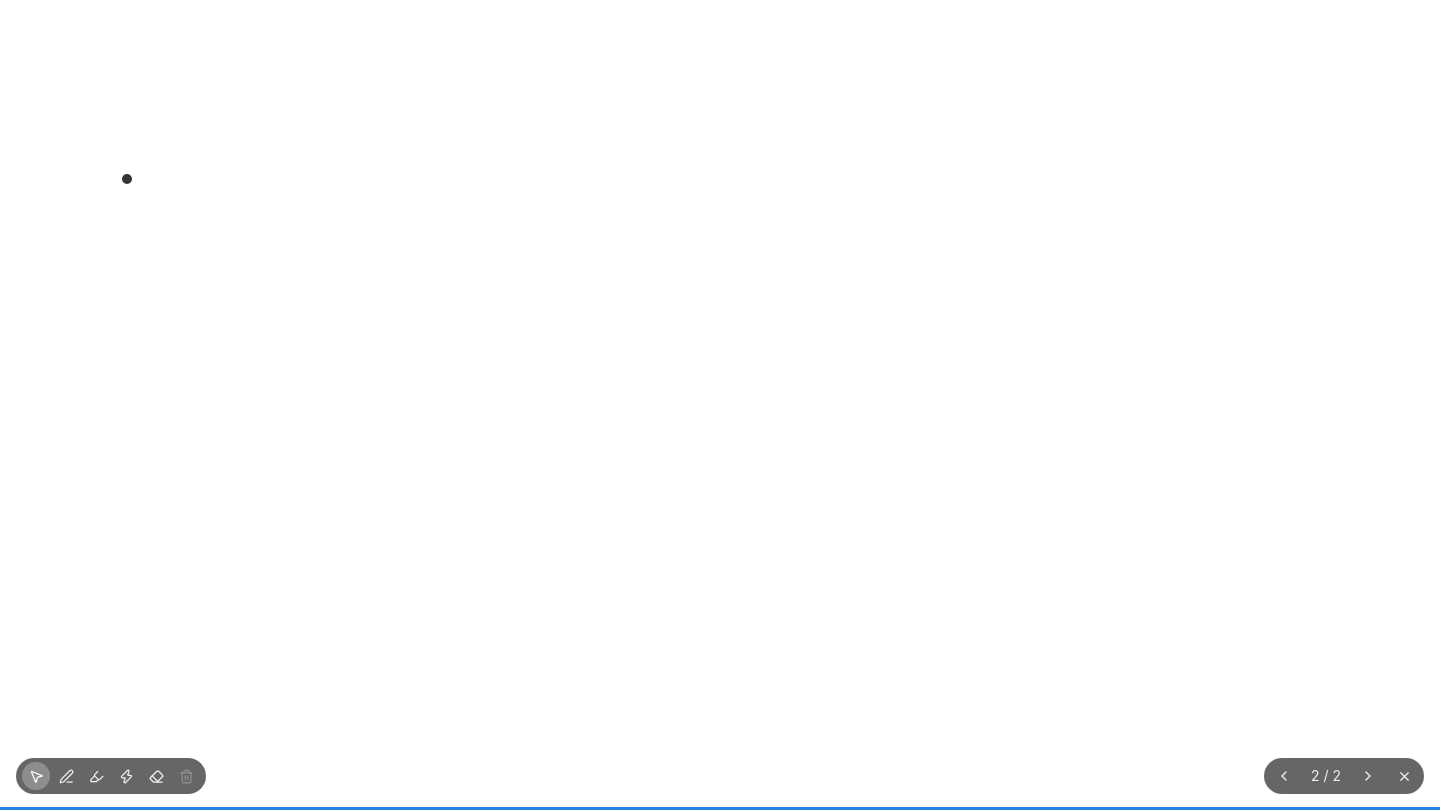
PresentationPage › presents from the start or the current slide, navigates with keys and closes with Esc
Earlier steps of the test are not shown.
Later steps or results of the test are not shown.
Expected: the text with test id "present-counter" reads "2 / 2", [1311,767,1341,784]
Press ArrowRight
Expected: the text with test id "present-counter" reads "2 / 2", [1311,767,1341,784]
Press b
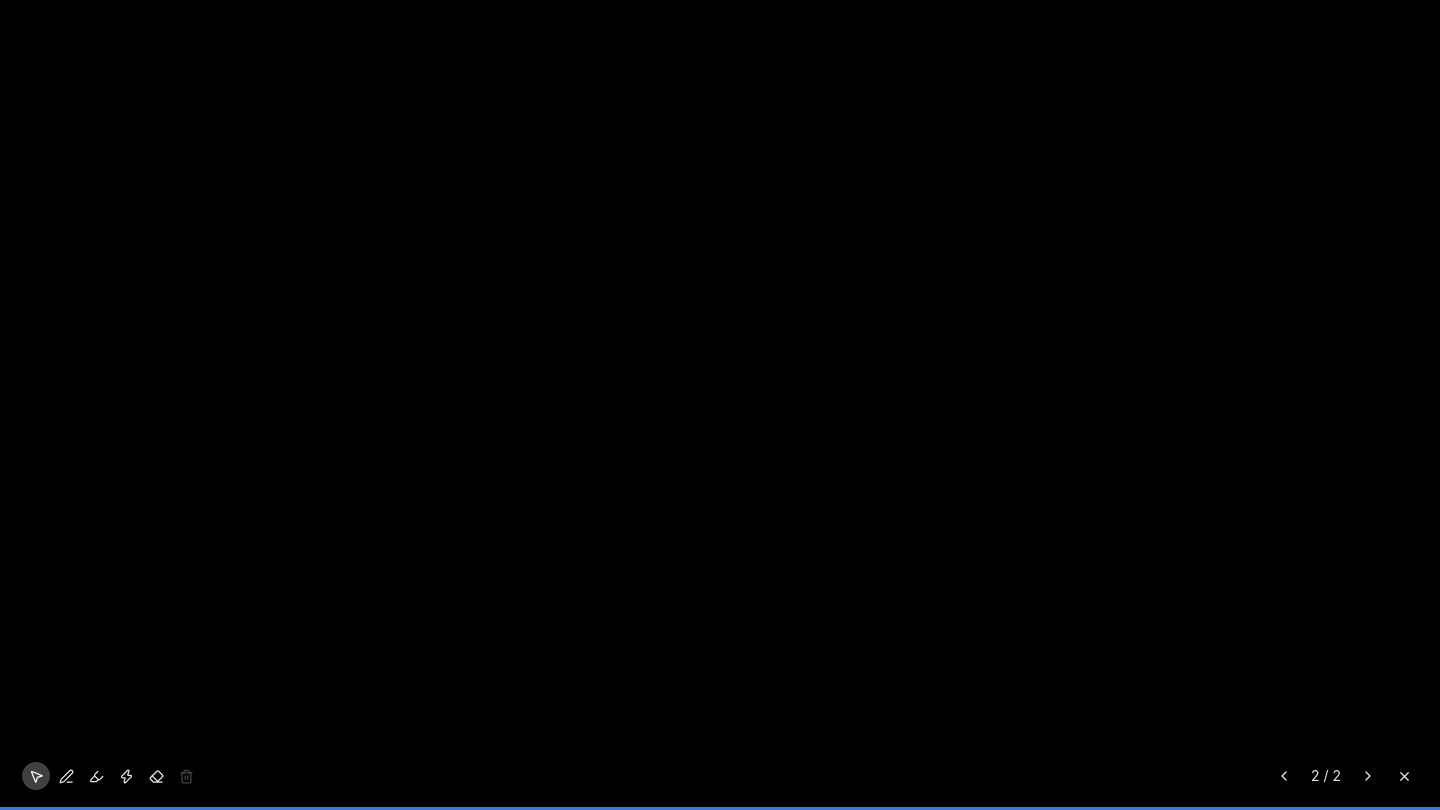
Expected: the element with test id "present-black" is shown
Click the dialog with test id "present-mode" at (720, 405), box [0,0,1439,809]
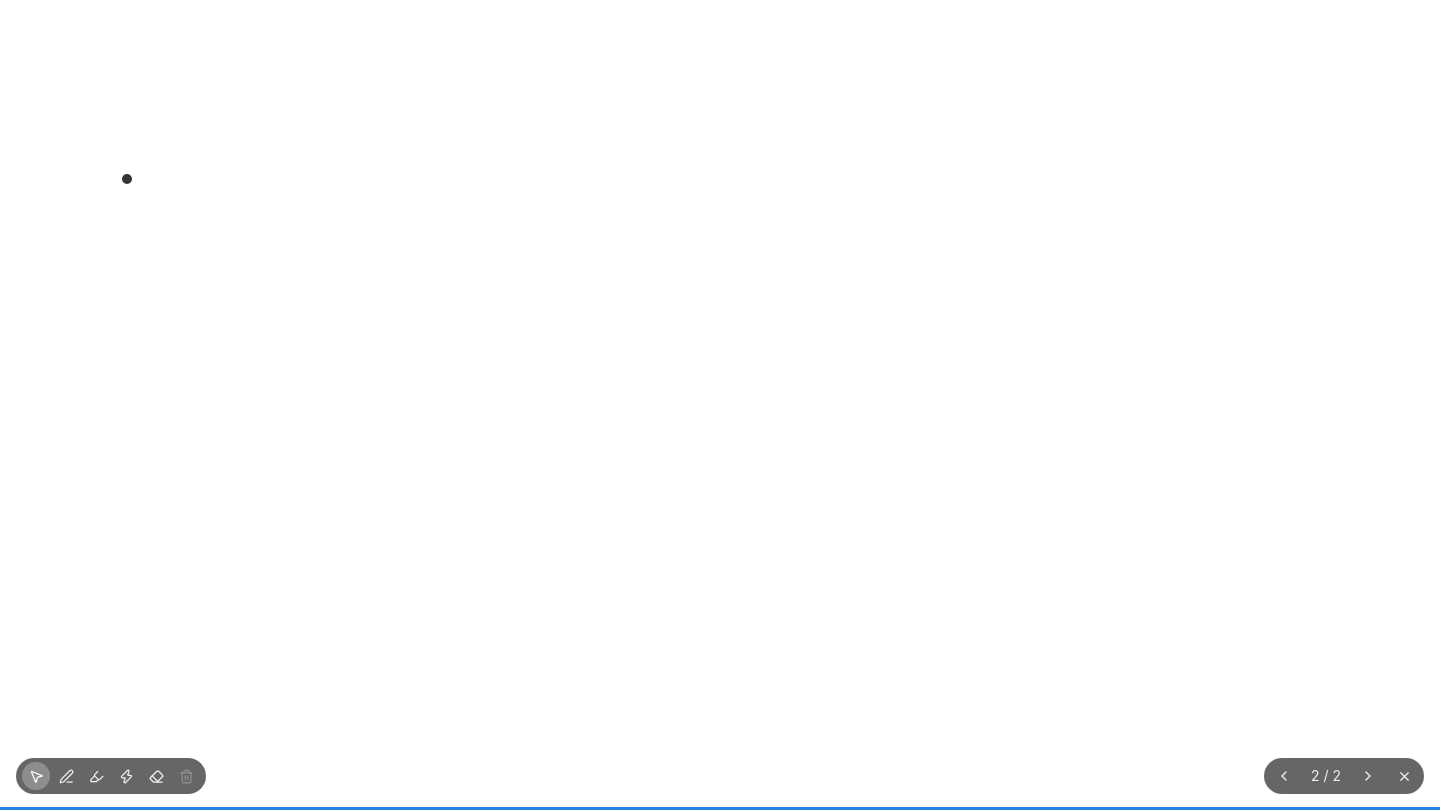
Expected: the element with test id "present-black" is gone
Press Escape
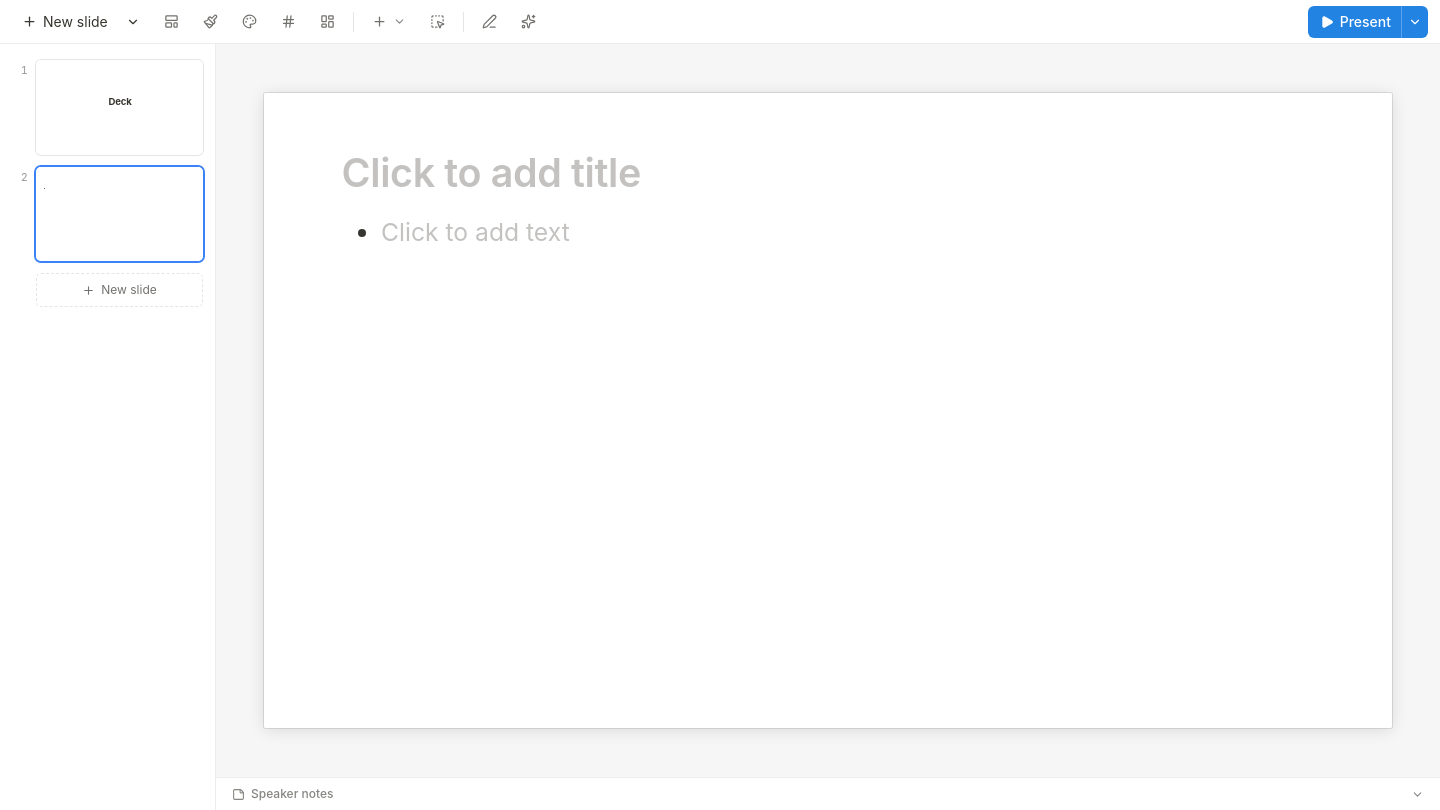
Expected: the dialog with test id "present-mode" is gone
Press F5
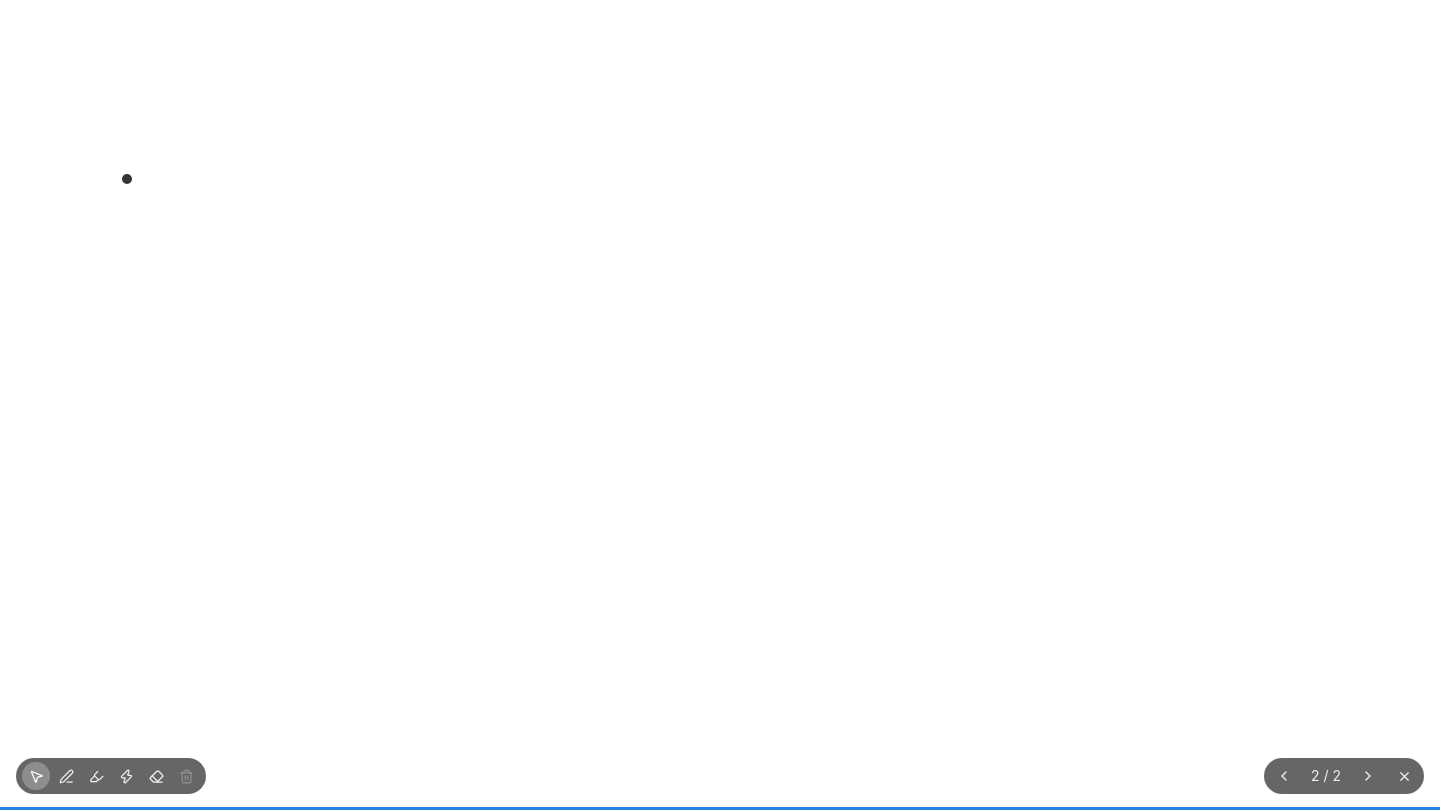
Expected: the text with test id "present-counter" reads "2 / 2", [1311,767,1341,784]
Click the button named "End presentation" at (1404, 776), box [1390,762,1418,790]
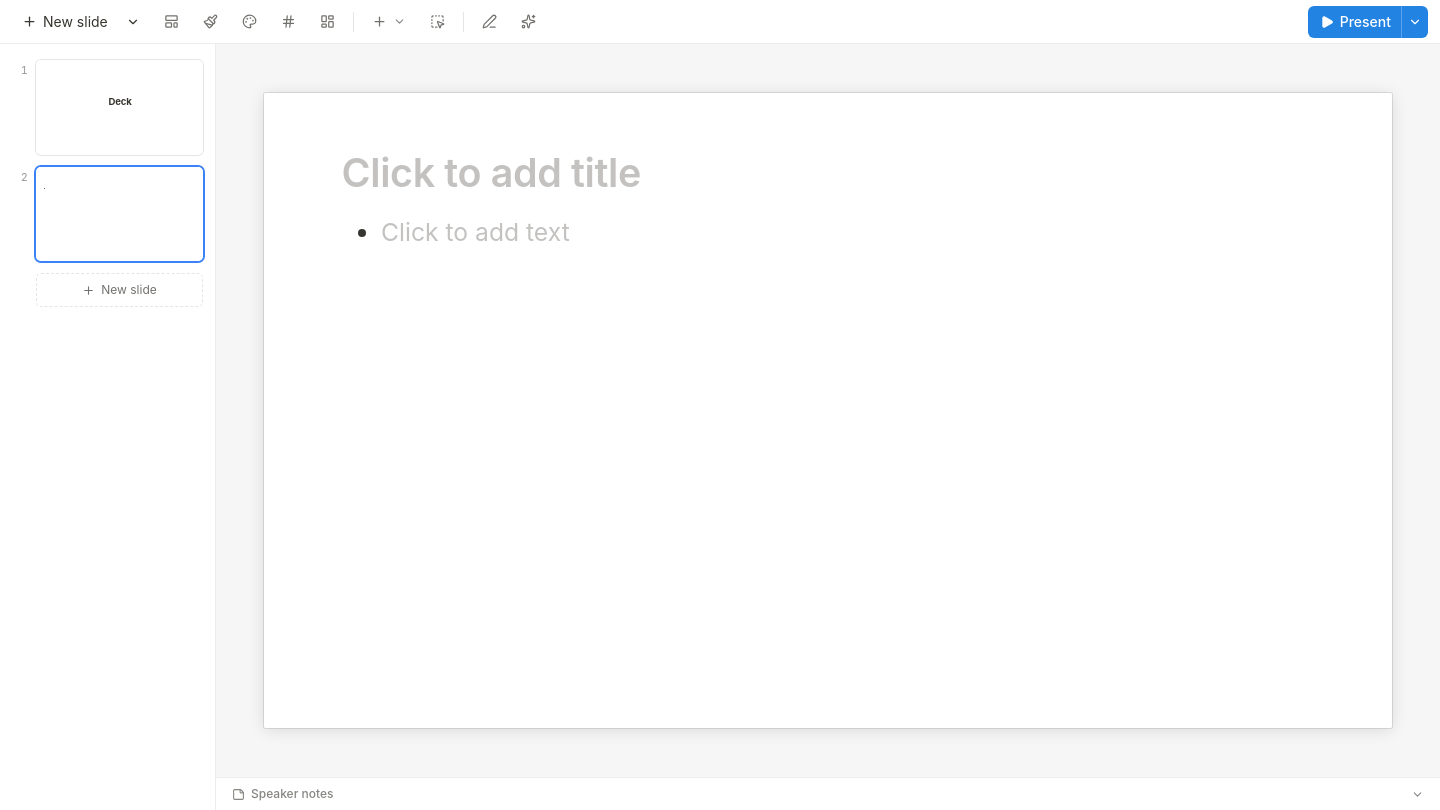
Press F5
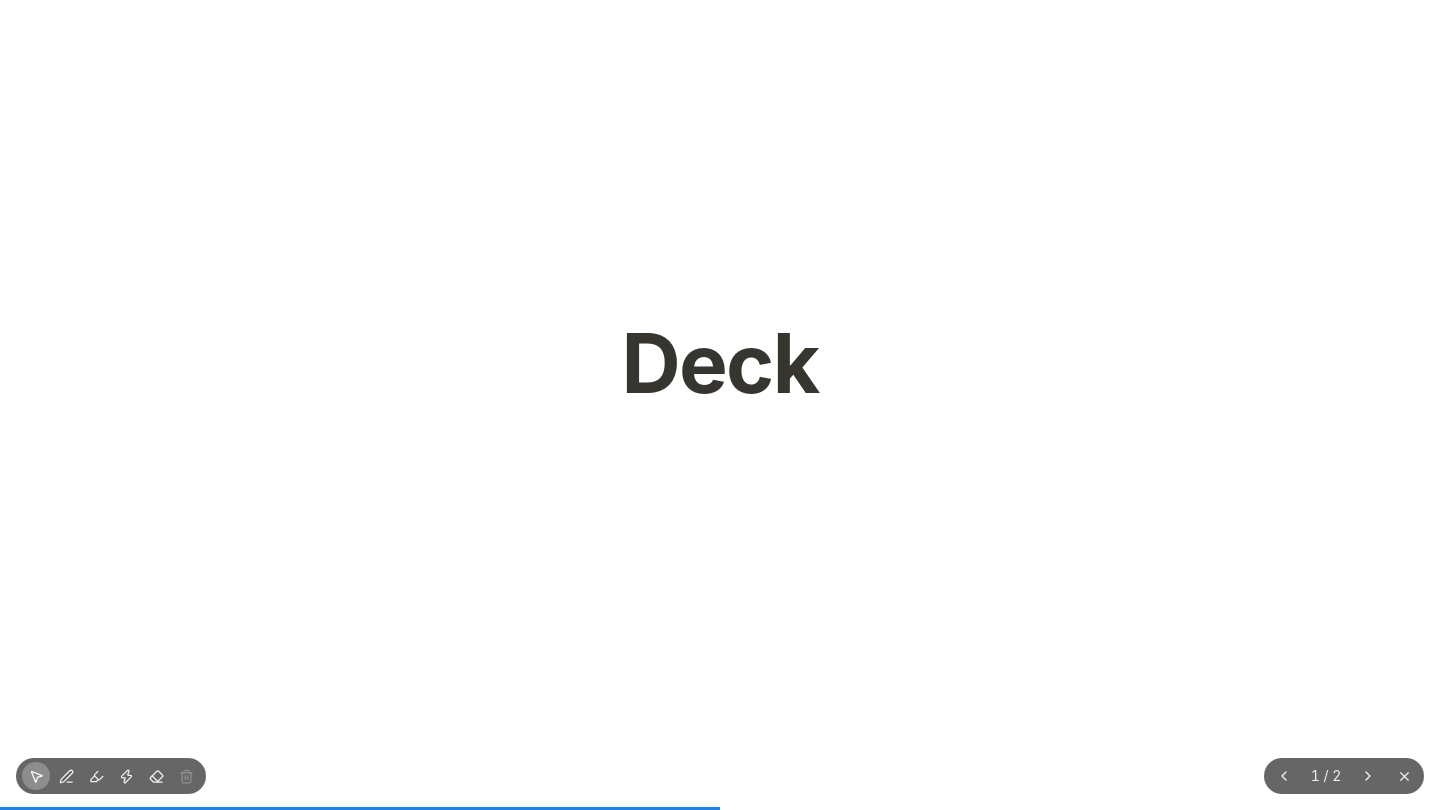
Expected: the text with test id "present-counter" reads "1 / 2", [1311,767,1341,784]
